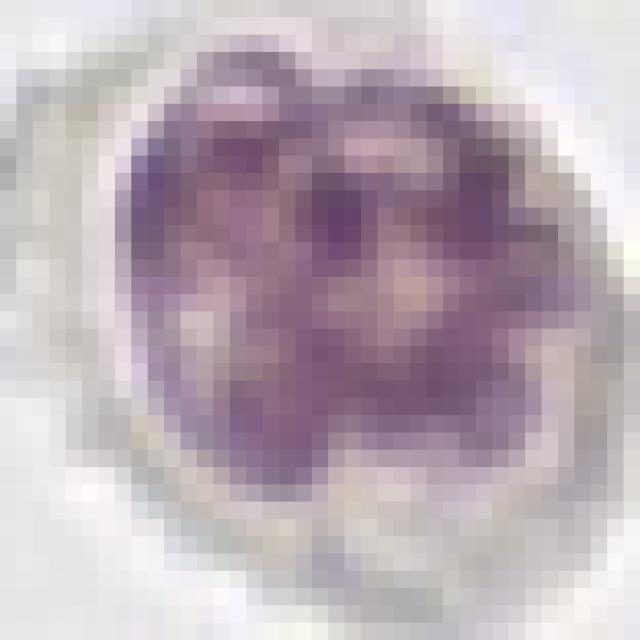cytoplasm: (0, 0, 624, 623)
nucleus: (102, 65, 592, 516)
